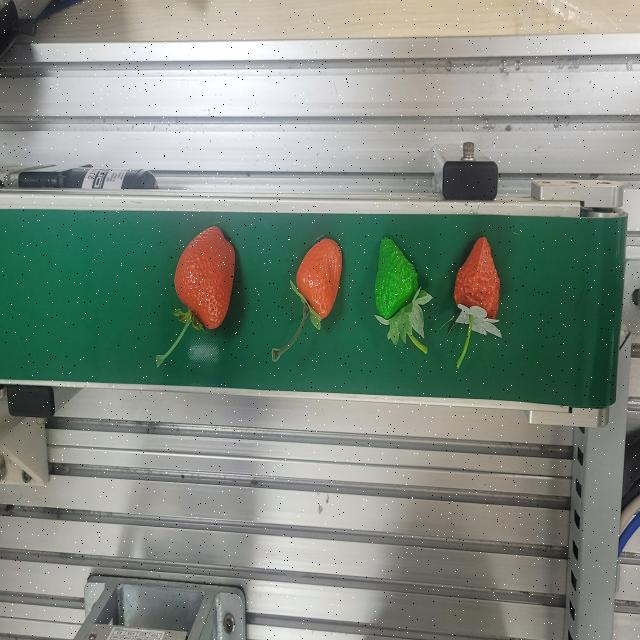Large Ripe Strawberry: (169, 226, 242, 332)
Small Ripe Strawberry: (451, 234, 506, 342), (291, 238, 345, 337)
Small Unripe Strawberry: (370, 232, 430, 346)
